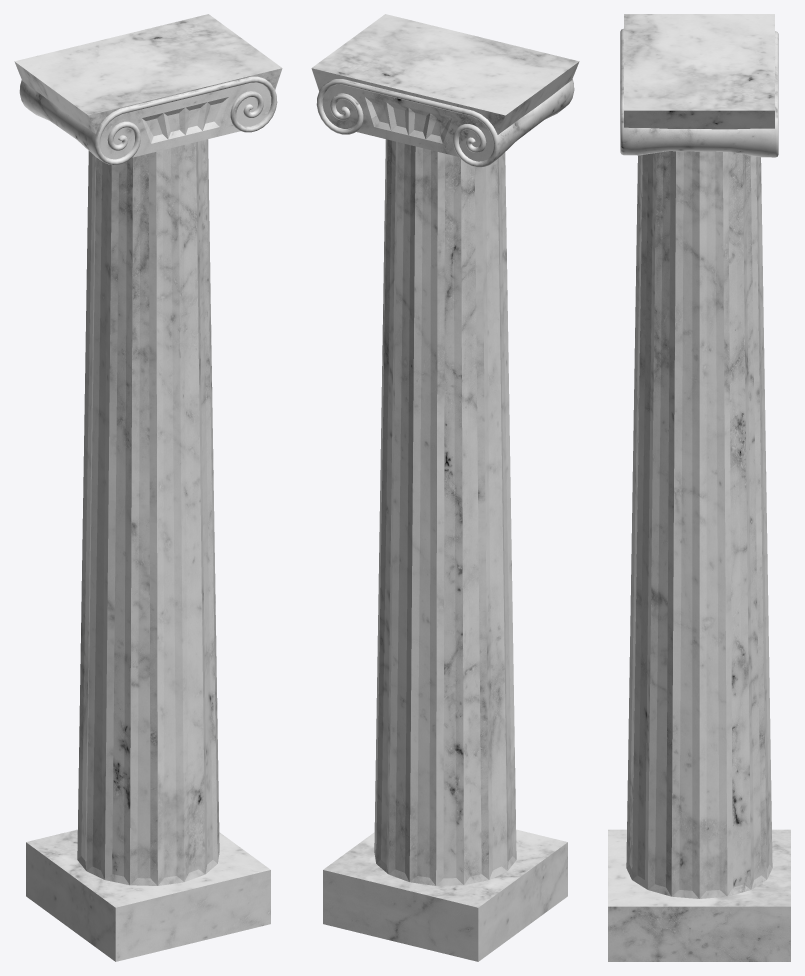
File: column.glb
3 views of the same model, side by side, from view 1: azimuth 30°, elevation 25°; view 2: azimuth 150°, elevation 25°; view 3: azimuth 270°, elevation 25° (orthographic).
Parts seen in each view (by area): view 1: 2_fut, 3_volute, 1_base; view 2: 2_fut, 3_volute, 1_base; view 3: 2_fut, 3_volute, 1_base.
Boxes of the visible parts, <box> form: 2_fut: <box>77,139,219,885</box>; 3_volute: <box>14,14,282,164</box>; 1_base: <box>26,829,270,961</box>; 2_fut: <box>374,139,516,885</box>; 3_volute: <box>311,14,579,167</box>; 1_base: <box>323,829,567,961</box>; 2_fut: <box>626,151,772,898</box>; 3_volute: <box>620,14,778,157</box>; 1_base: <box>608,829,790,961</box>.
Size of the model in its own units: 3 by 12.48 by 2.4.
2 materials, 2 textured.
